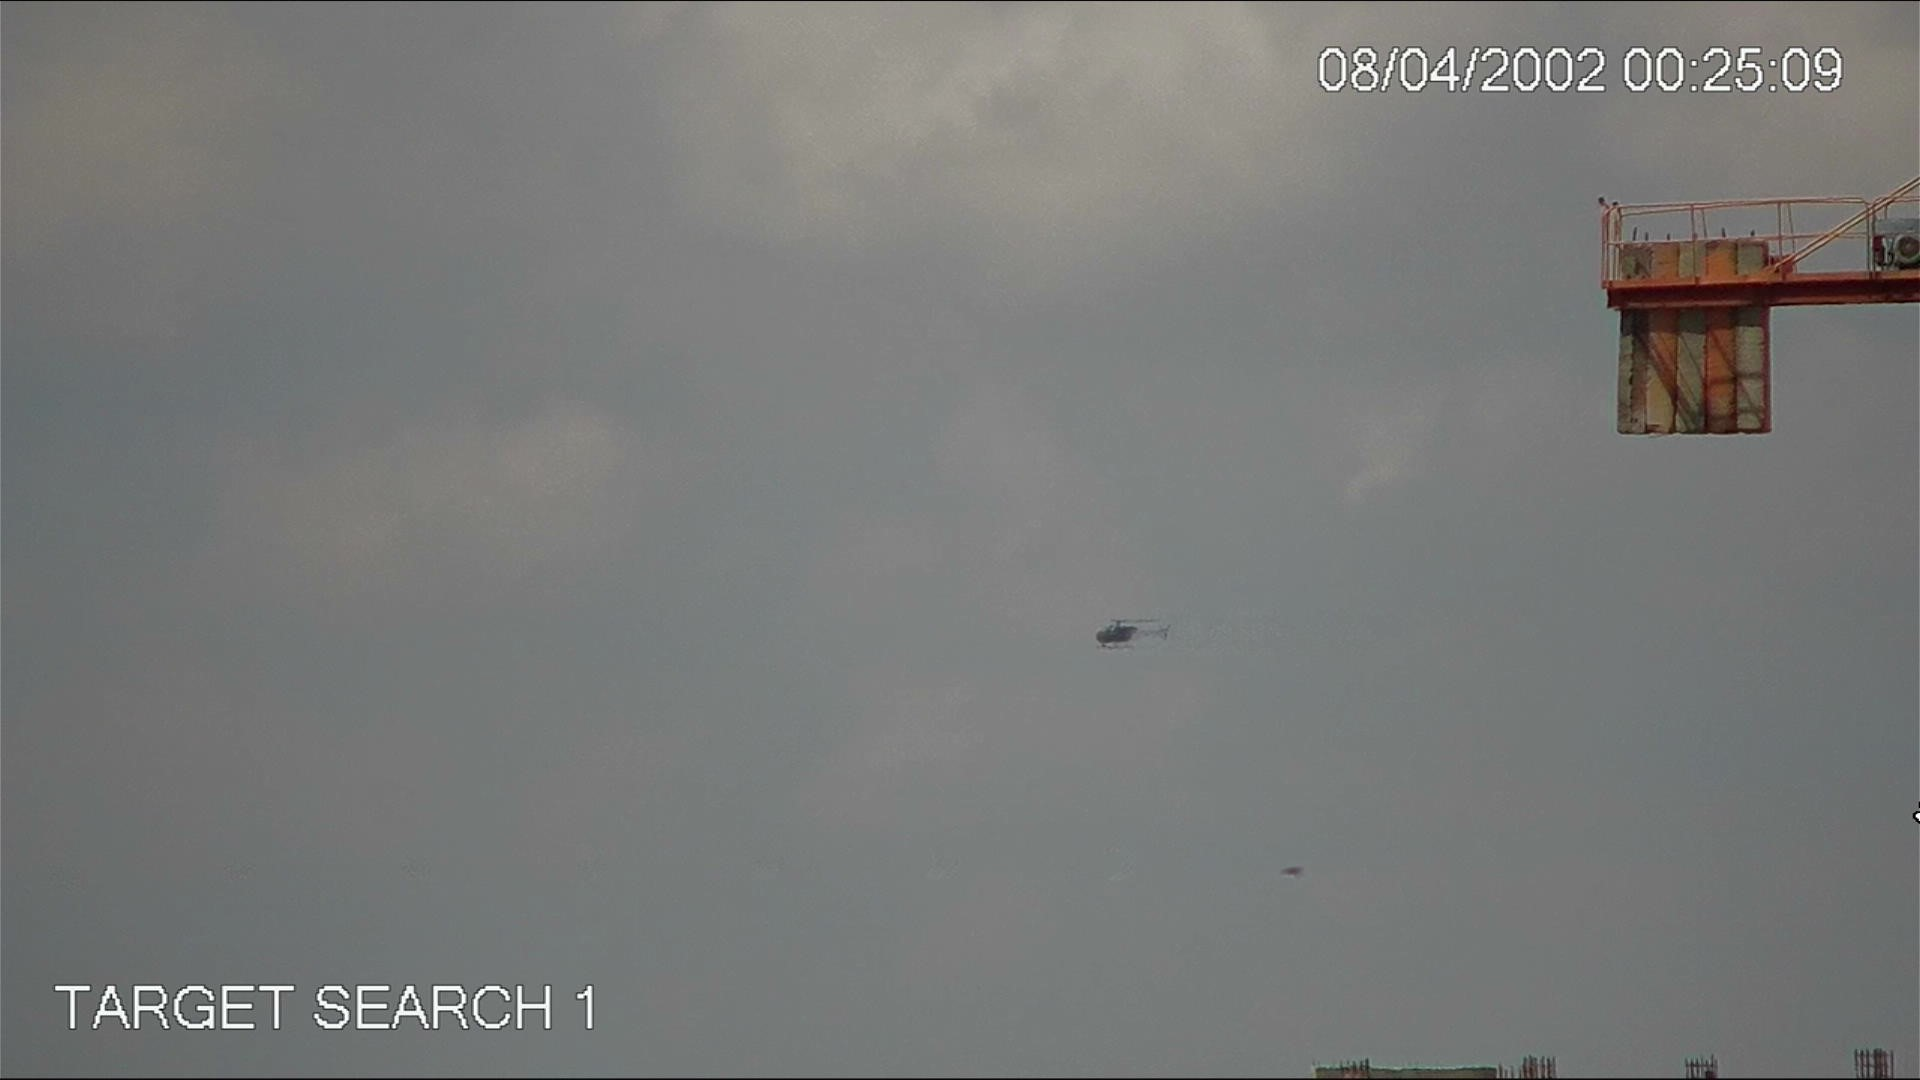SU_30: (1095, 615, 1175, 653)
